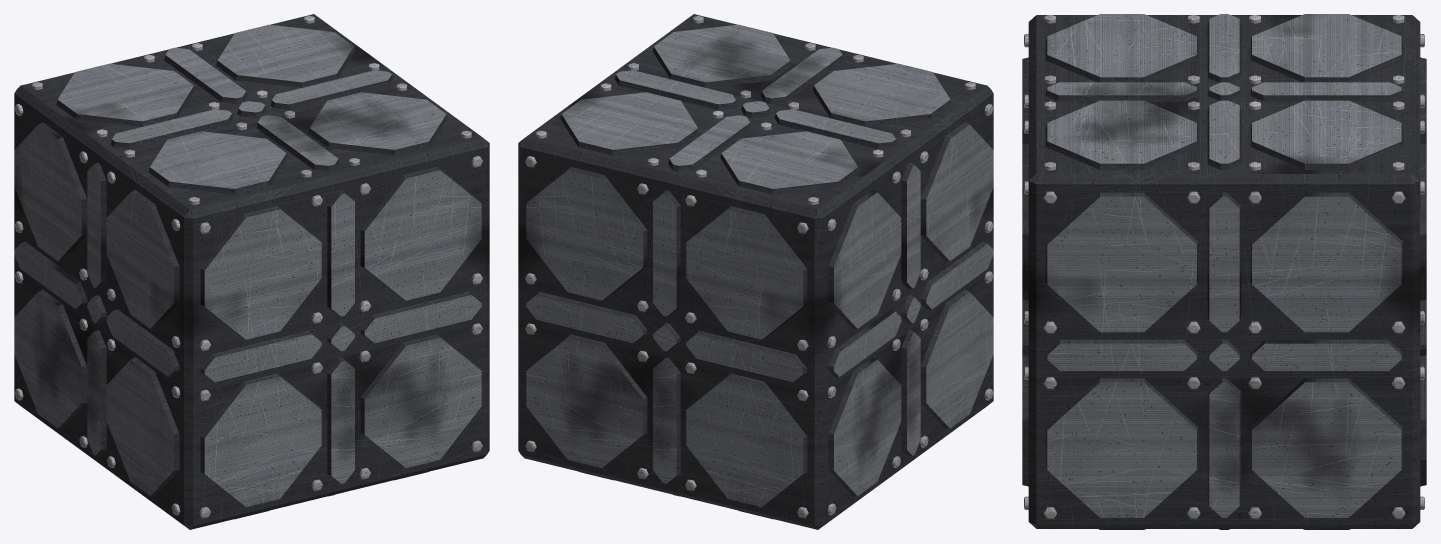
3 renders of one model, left to right at view 1: azimuth 30°, elevation 25°; view 2: azimuth 150°, elevation 25°; view 3: azimuth 270°, elevation 25°, orthographic. The views are drawn at different scales.
Visible parts, largest first — view 1: R4B_Cube; view 2: R4B_Cube; view 3: R4B_Cube.
Part boxes in pixels (<box>): R4B_Cube: <box>14,14,489,529</box>; R4B_Cube: <box>518,14,993,529</box>; R4B_Cube: <box>1022,14,1426,529</box>.
Bounding box in the file's own units: 0.52 × 0.52 × 0.52.
3 materials, 3 textured.
